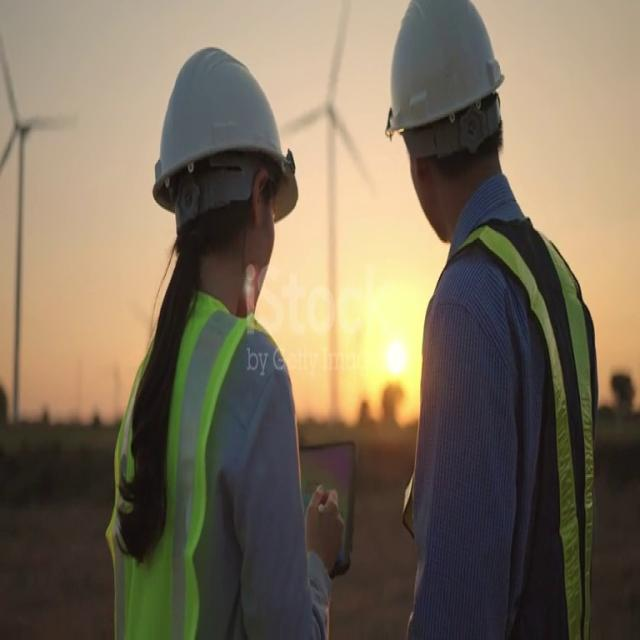capacete: (149, 40, 302, 241), (378, 0, 519, 172)
